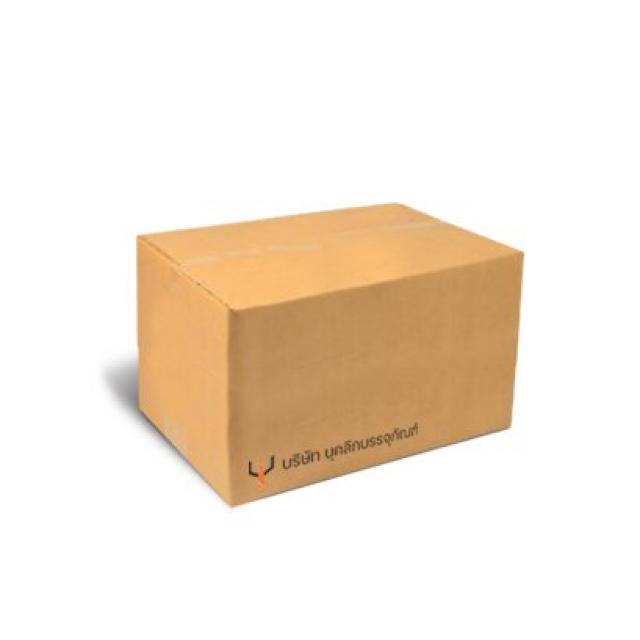box: (113, 191, 532, 500)
